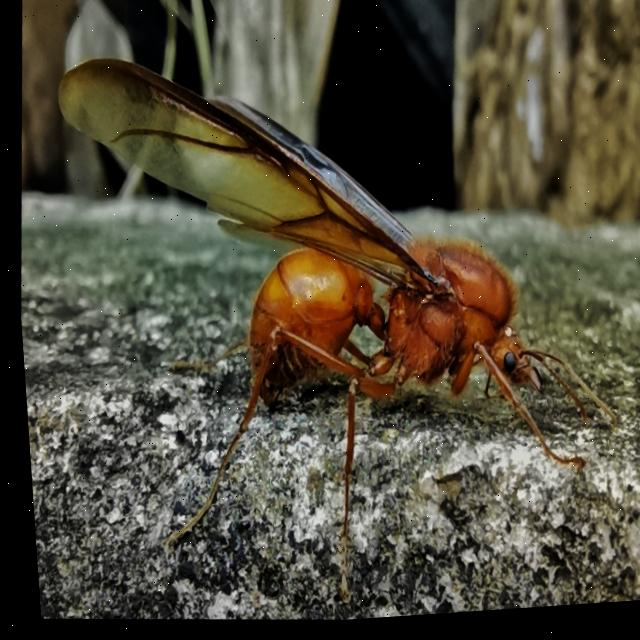Alive-Male-Alate: (19, 28, 640, 638)
